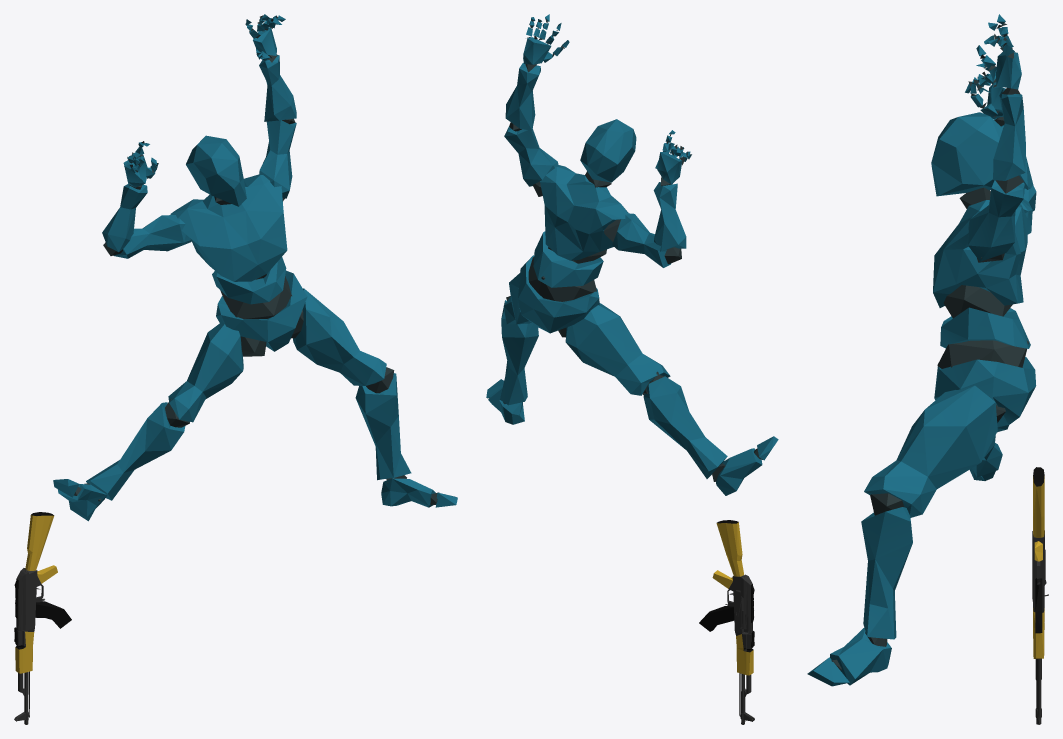
File: EnemyDying_000113.obj
The picture shows the model from 3 angles, left to right: view 1: azimuth 30°, elevation 25°; view 2: azimuth 150°, elevation 25°; view 3: azimuth 270°, elevation 25°; orthographic projection. The views are drawn at different scales.
Parts seen in each view (by area): view 1: Alpha_Surface, AK-47_Cube, Alpha_Joints; view 2: Alpha_Surface, AK-47_Cube, Alpha_Joints; view 3: Alpha_Surface, Alpha_Joints, AK-47_Cube.
Part boxes in pixels (left/top/right/bottom): Alpha_Surface: left=53, top=14, right=457, bottom=521; AK-47_Cube: left=14, top=512, right=71, bottom=724; Alpha_Joints: left=74, top=15, right=439, bottom=505; Alpha_Surface: left=486, top=14, right=778, bottom=495; AK-47_Cube: left=699, top=520, right=754, bottom=724; Alpha_Joints: left=503, top=19, right=762, bottom=481; Alpha_Surface: left=807, top=14, right=1036, bottom=686; Alpha_Joints: left=831, top=23, right=1028, bottom=670; AK-47_Cube: left=1032, top=467, right=1048, bottom=724.
Bounding box in the file's own units: 302 × 538 × 141.
